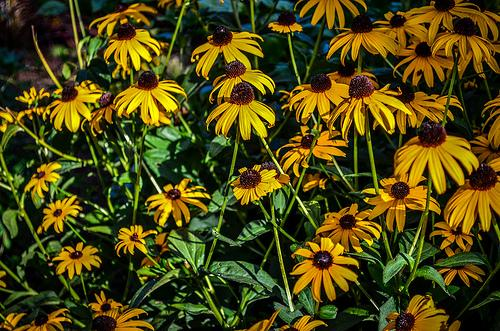sunflower: (396, 120, 478, 191), (289, 235, 360, 303), (331, 76, 408, 136), (359, 174, 443, 229), (204, 83, 277, 140), (275, 123, 348, 175), (115, 72, 184, 126), (190, 25, 266, 73), (327, 15, 399, 63), (142, 177, 211, 227), (395, 29, 454, 85), (316, 204, 381, 251), (46, 79, 104, 131), (103, 24, 161, 71), (51, 240, 100, 277), (230, 165, 276, 203), (38, 196, 81, 234), (115, 224, 158, 257), (25, 161, 62, 196)
